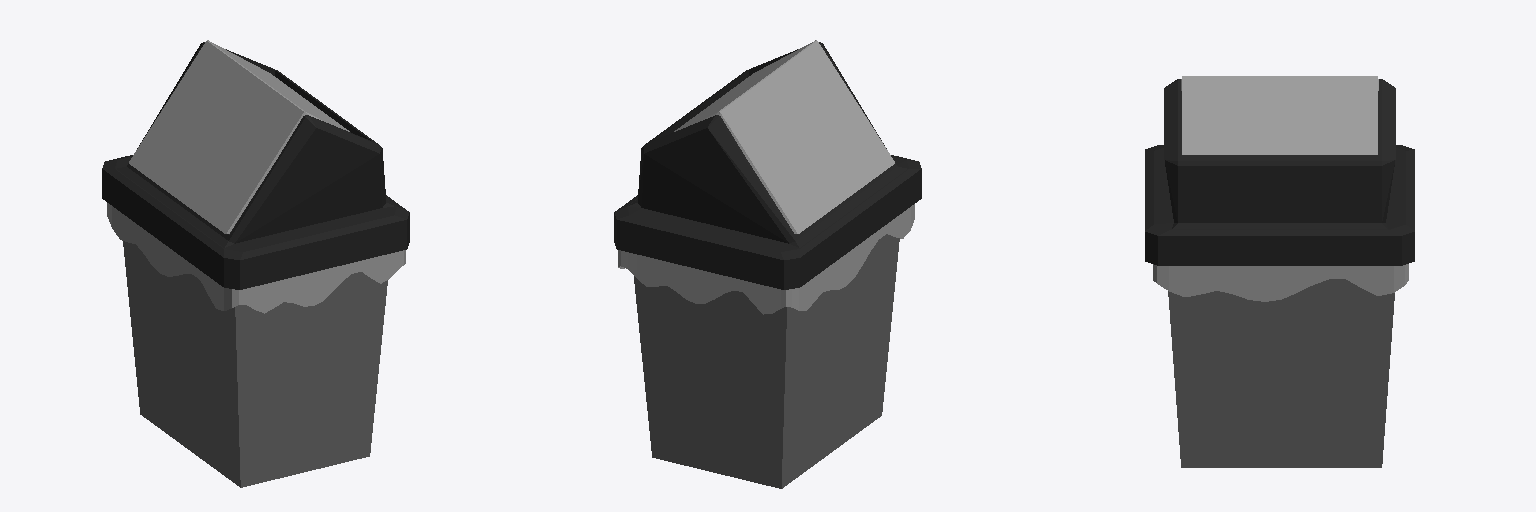
The model's file is vuilbakje_toilet.obj.
3 renders of one model, left to right at view 1: azimuth 30°, elevation 25°; view 2: azimuth 150°, elevation 25°; view 3: azimuth 270°, elevation 25°, orthographic.
Visible parts, largest first — view 1: Cube, Cube.001, Cube.003, Plane.001; view 2: Cube, Cube.001, Cube.003, Plane.001; view 3: Cube, Cube.001, Cube.003, Plane.001.
Boxes of the visible parts, box(x1,y1,x2,y2) form: Cube: box(123, 241, 387, 487); Cube.001: box(102, 42, 409, 289); Cube.003: box(129, 40, 349, 233); Plane.001: box(107, 203, 405, 313); Cube: box(634, 234, 899, 488); Cube.001: box(614, 42, 921, 289); Cube.003: box(674, 40, 894, 233); Plane.001: box(618, 204, 914, 314); Cube: box(1168, 279, 1394, 467); Cube.001: box(1145, 79, 1414, 265); Cube.003: box(1181, 76, 1378, 154); Plane.001: box(1153, 264, 1408, 301).
Bounding box in the file's own units: 0.6019 × 1.11 × 0.7569.